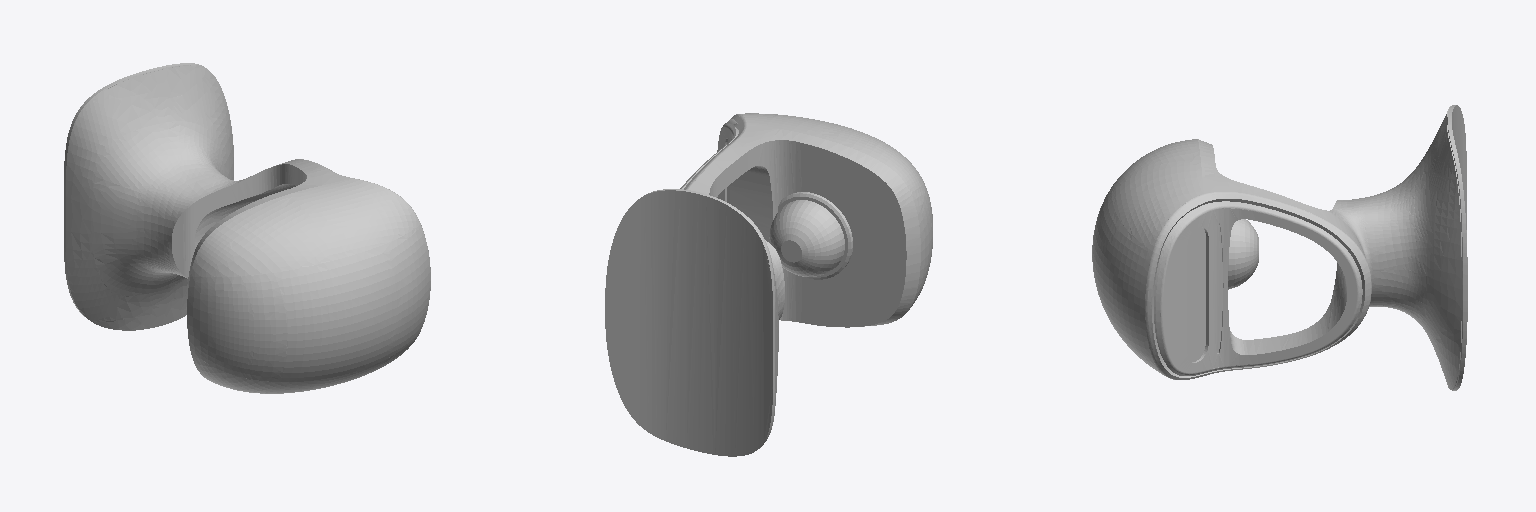
Rendered from head_link_collisions.obj.
The picture shows the model from 3 angles: view 1: azimuth 30°, elevation 25°; view 2: azimuth 150°, elevation 25°; view 3: azimuth 270°, elevation 25°; orthographic projection.
Bounding box in the file's own units: 0.1403 × 0.1556 × 0.2058.